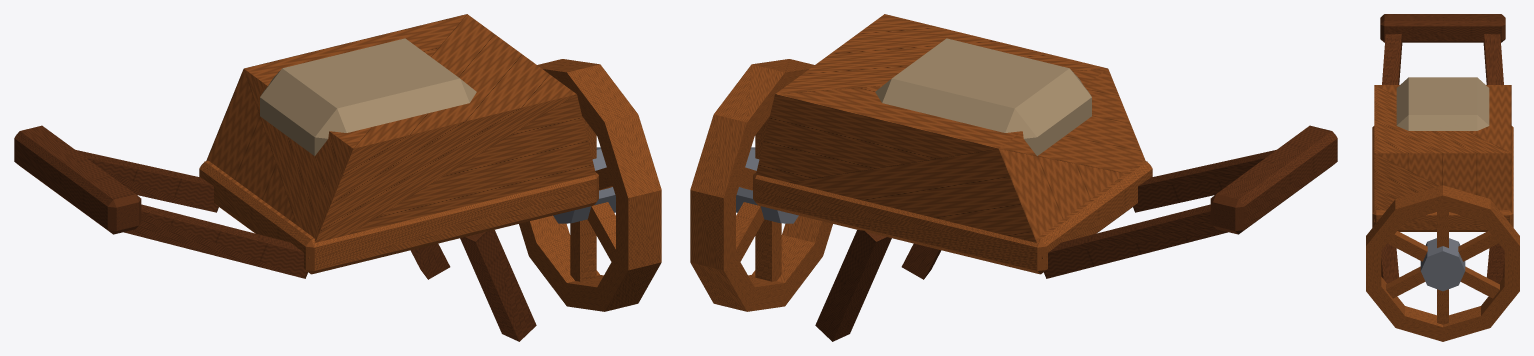
The model's file is fantasy-mmo-city-and-townsfolk-wheelbarrow-d90ae5f2__32773.glb.
3 renders of one model, left to right at view 1: azimuth 30°, elevation 25°; view 2: azimuth 150°, elevation 25°; view 3: azimuth 270°, elevation 25°, orthographic. The views are drawn at different scales.
Parts seen in each view (by area): view 1: wheelbarrow, wheel-front/wood, wheel-front/iron; view 2: wheelbarrow, wheel-front/wood, wheel-front/iron; view 3: wheelbarrow, wheel-front/wood, wheel-front/iron.
Boxes of the visible parts, x1,y1,x2,y2 form: wheelbarrow: (14, 14, 598, 341); wheel-front/wood: (519, 59, 661, 311); wheel-front/iron: (553, 147, 615, 223); wheelbarrow: (753, 14, 1337, 341); wheel-front/wood: (690, 59, 832, 311); wheel-front/iron: (736, 147, 798, 223); wheelbarrow: (1372, 14, 1513, 283); wheel-front/wood: (1366, 185, 1519, 341); wheel-front/iron: (1420, 238, 1465, 291).
Size of the model in its own units: 1.96 by 0.96 by 0.7608.
4 materials, 2 textured.
